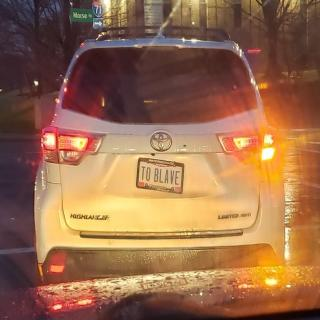license: (136, 158, 186, 196)
